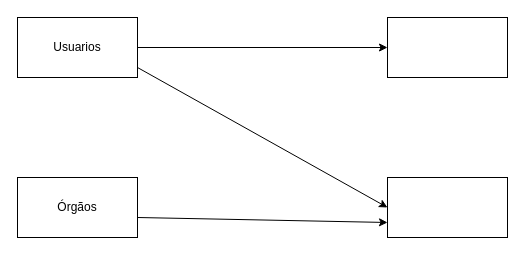
The diagram is 525 pixels wide and 255 high, and some of its shapes have lost their labels. Each missing label, with the box of its shape:
Aferições: (386, 16, 508, 78)
Órgãos e Usuarios: (386, 176, 508, 238)
